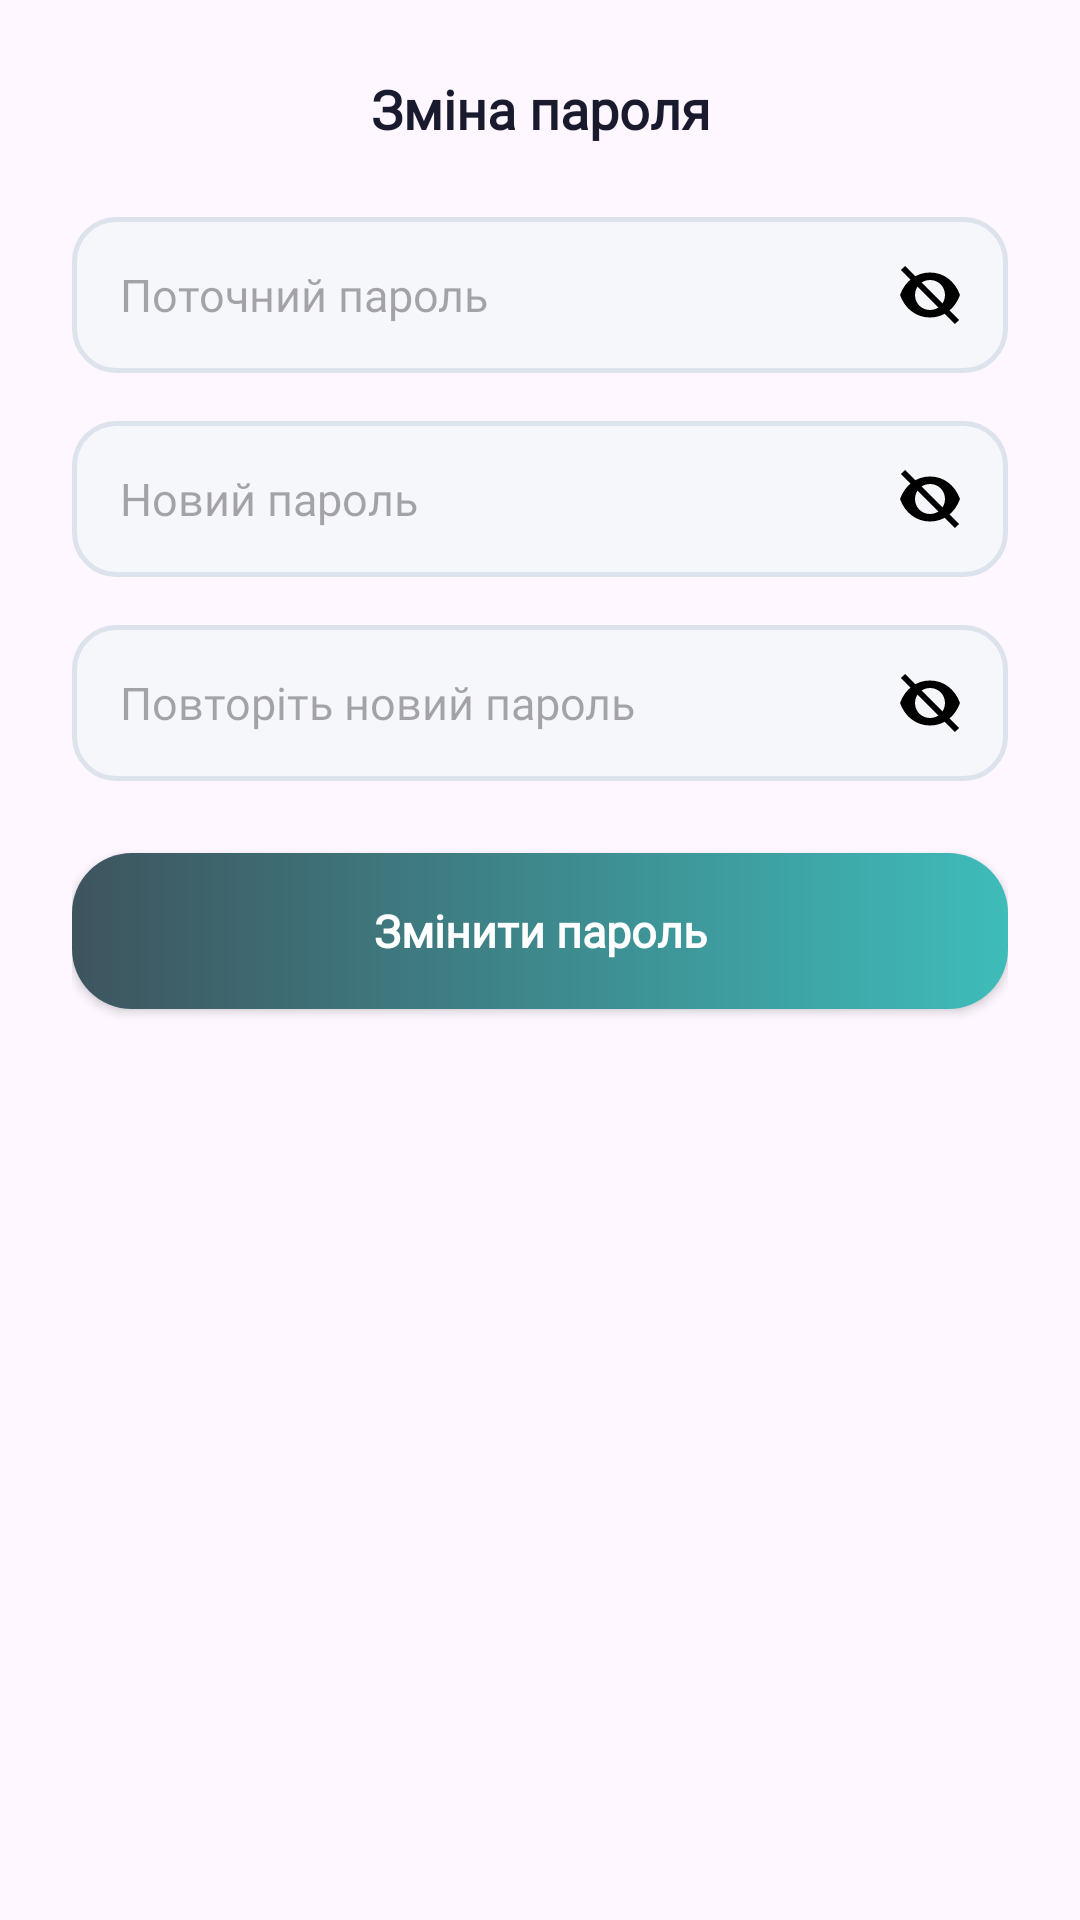

Icons on this 1080 x 1920 Android screen, each with its box as (x1, y1, x2, y2):
Toggle confirm password visibility: (900, 674, 960, 732)
Toggle current password visibility: (900, 266, 960, 324)
Toggle new password visibility: (900, 470, 960, 528)
